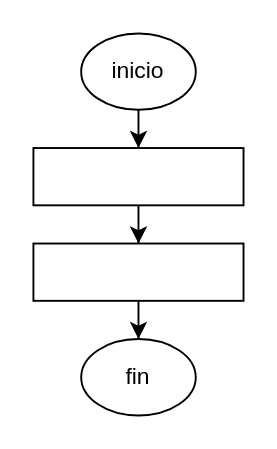
Some shapes in this 277 by 449 pixel diagram are drawn without their labels. Here are the shapes that lost their labels. From the top down, the centre of each, then its label:
pixel 138 175: UTF8Config();
pixel 138 271: principalMenu();
